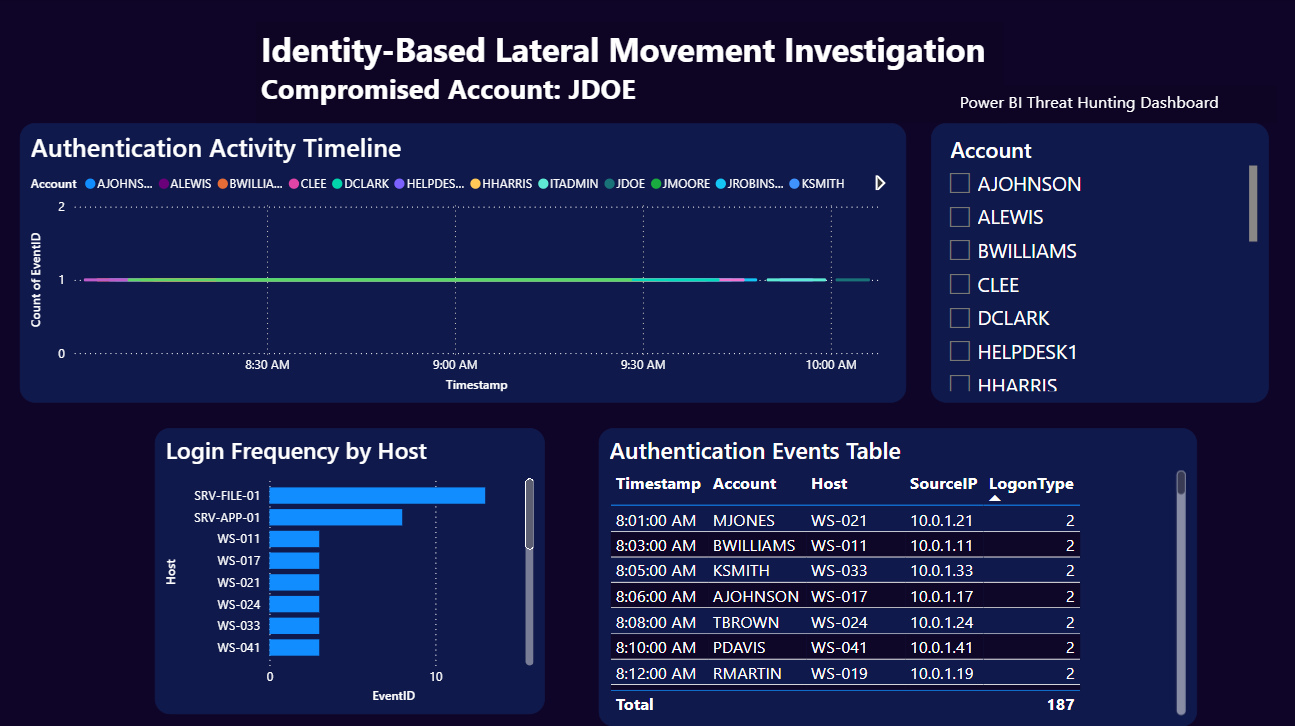

What the dashboard file says about the page in this screenshot:
{"tool":"powerbi","page":{"name":"Identity Analytics","canvas":[1280,720],"ordinal":1},"visuals":[{"type":"lineChart","title":"Authentication Activity Timeline","fields":{"Category":["AuthenticationLogs.Timestamp"],"Y":["CountNonNull(AuthenticationLogs.EventID)"],"Series":["AuthenticationLogs.Account"]},"box":[23.2,122.3,867,273.9],"z":0},{"type":"clusteredBarChart","title":"Login Frequency by Host","fields":{"Category":["AuthenticationLogs.Host"],"Y":["CountNonNull(AuthenticationLogs.EventID)"]},"box":[155.3,420.7,381.5,280],"z":1000},{"type":"tableEx","title":"Authentication Events Table","fields":{"Values":["AuthenticationLogs.Timestamp","AuthenticationLogs.Account","AuthenticationLogs.Host","AuthenticationLogs.SourceIP","Sum(AuthenticationLogs.LogonType)"]},"box":[589.4,420.7,585.7,292.3],"z":2000},{"type":"slicer","fields":{"Values":["AuthenticationLogs.Account"]},"box":[914.7,122.3,330.2,273.9],"z":3000},{"type":"textbox","box":[254.3,23.2,731.3,99],"z":4000},{"type":"textbox","box":[937.9,85.6,315.5,36.7],"z":5000}]}

Visuals, with their boxes in screenshot pixels (x1, y1, x2, y2), scaled from the page's 1280x720 canvas onto the 1295x726 screenshot:
"Authentication Activity Timeline" lineChart: select_region(23, 123, 901, 400)
"Login Frequency by Host" clusteredBarChart: select_region(157, 424, 543, 707)
"Authentication Events Table" tableEx: select_region(596, 424, 1189, 719)
slicer - AuthenticationLogs.Account: select_region(925, 123, 1259, 400)
textbox: select_region(257, 23, 997, 123)
textbox: select_region(949, 86, 1268, 123)
